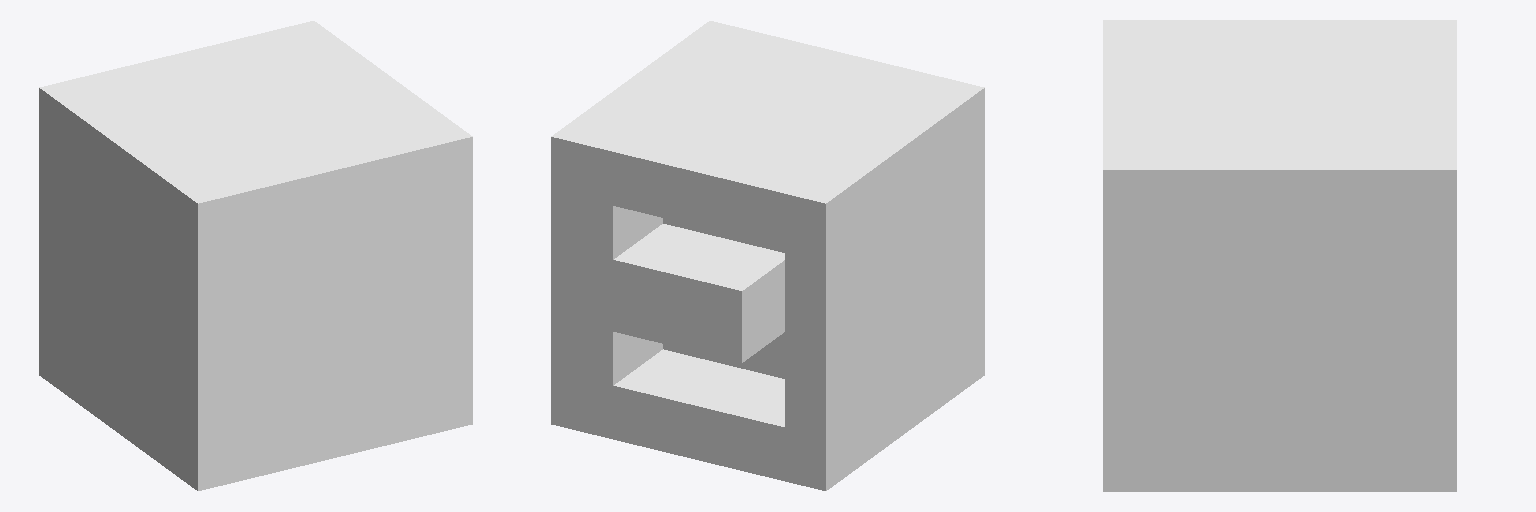
URDF robot description (U_cube_bottle_preprocessed):
<?xml version="1.0" ?>
<robot name="U_cube_bottle_preprocessed">
  <link name="baseLink">
    <contact>
    	<friction_anchor/>
    	   <lateral_friction value="1.0"/>
    </contact>
    <inertial>
      <origin rpy="0 0 0" xyz="0 0 0"/>
       <!-- mass controls penetration -->
       <mass value=".5"/>
       <inertia ixx="1e-4" ixy="0" ixz="0" iyy="1e-4" iyz="0" izz="1e-4"/>
    </inertial>
    <visual>
      <origin rpy="0 0 0" xyz="0 0 0"/>
      <geometry>
        <mesh filename="U_cube_bottle_preprocessed.obj"/>
      </geometry>
       <material name="white">
        <color rgba="1 1 1 1"/>
      </material>
    </visual>
    <collision>
      <origin rpy="0 0 0" xyz="0 0 0"/>
      <geometry>
        <mesh filename="U_cube_bottle_preprocessed.obj"/>
      </geometry>
    </collision>
  </link>
</robot>

--- What the picture shows (computed from the rendered views, not written in the file) ---
Views: 3 orthographic renders of the robot side by side, from view 1: azimuth 30°, elevation 25°; view 2: azimuth 150°, elevation 25°; view 3: azimuth 270°, elevation 25°.
Robot: U_cube_bottle_preprocessed — 1 links, 0 joints (none); root link baseLink; default pose: all joints at 0.
Links seen in each view (by area): view 1: baseLink; view 2: baseLink; view 3: baseLink.
Link boxes in pixels (x1,y1,x2,y2): baseLink: [39, 21, 472, 490]; baseLink: [551, 21, 984, 490]; baseLink: [1103, 20, 1456, 491].
Size in the robot's own frame: 0.08 by 0.08 by 0.08 metres.
Meshes: 1 distinct files referenced, 1 mesh visuals loaded (1 OBJ).